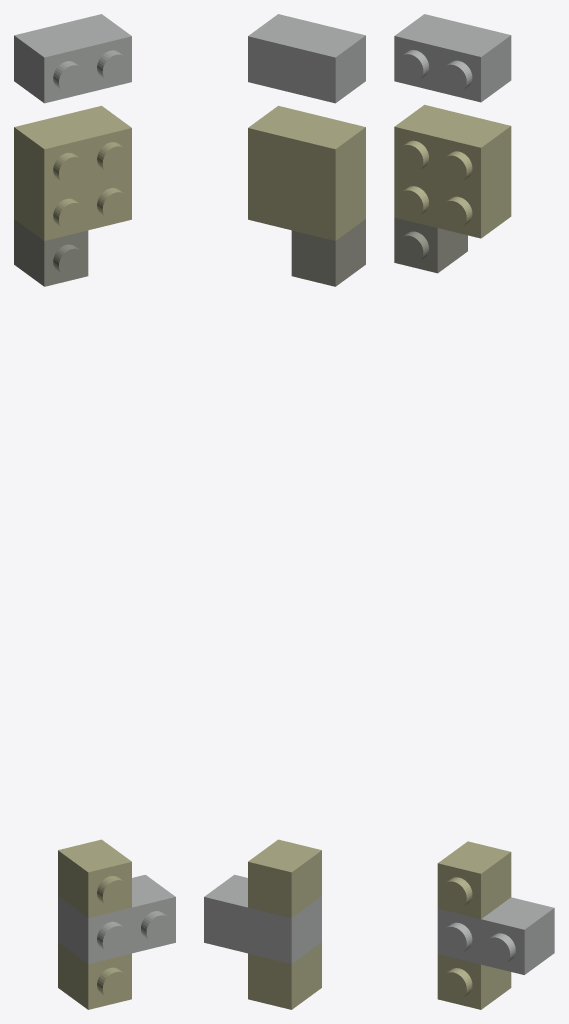
Rendered from current.glb.
3 renders of one model, left to right at view 1: azimuth 30°, elevation 25°; view 2: azimuth 150°, elevation 25°; view 3: azimuth 330°, elevation 25°, orthographic.
Parts seen in each view (by area): view 1: world; view 2: world; view 3: world.
Part boxes in pixels (x1,y1,x2,y2): world: (14, 14, 175, 1009); world: (204, 14, 365, 1009); world: (394, 14, 554, 1009).
Bounding box in the file's own units: 24 × 168 × 11.4.
